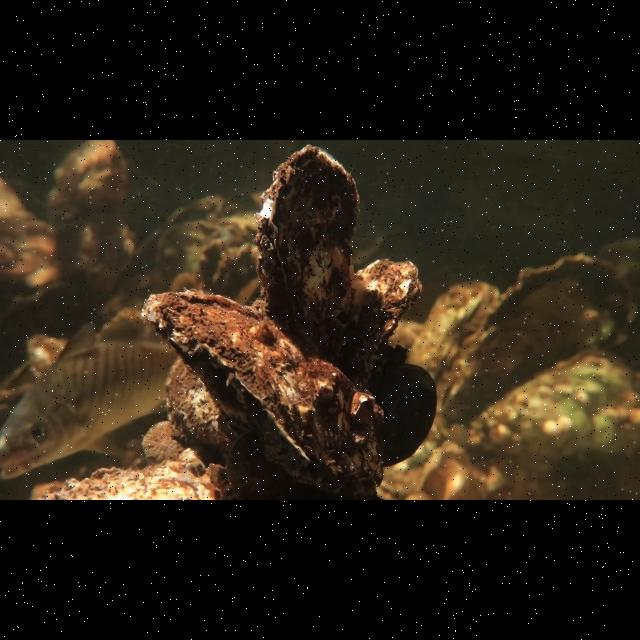Oyster-Closed: (140, 285, 389, 500), (442, 253, 632, 422), (249, 142, 364, 363), (466, 346, 640, 469), (341, 251, 429, 390), (408, 275, 502, 391), (151, 356, 241, 454), (32, 453, 219, 498), (378, 360, 441, 468)
